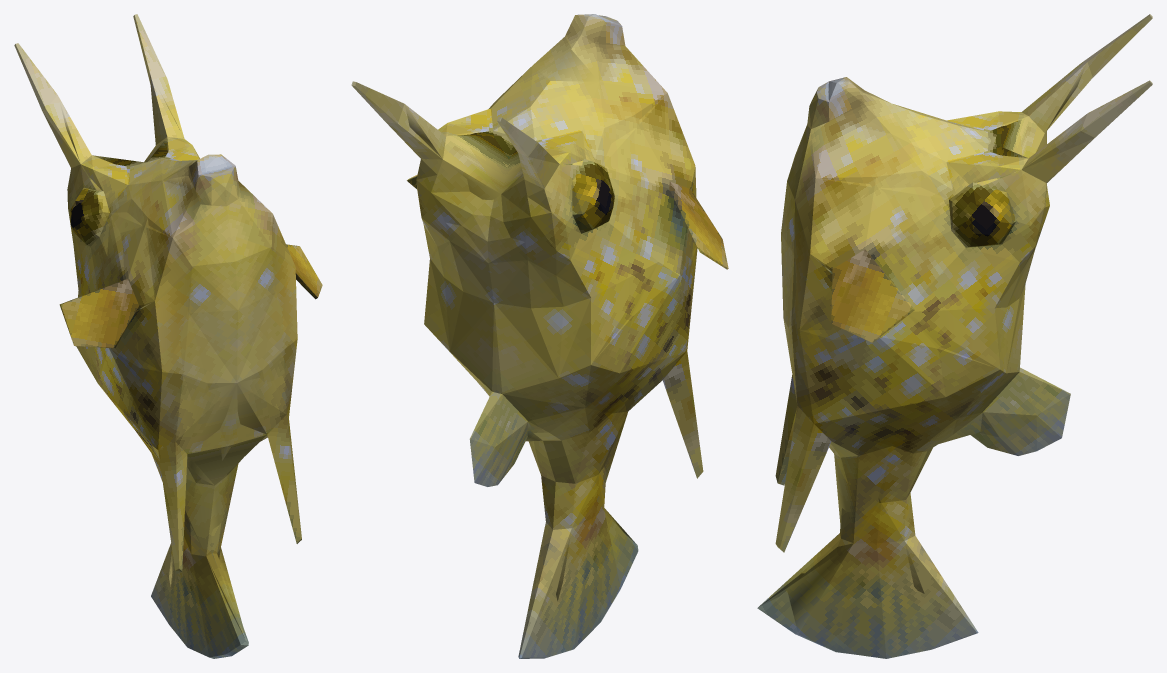
The model's file is item_fish_cowfish.glb.
3 renders of one model, left to right at view 1: azimuth 30°, elevation 25°; view 2: azimuth 150°, elevation 25°; view 3: azimuth 270°, elevation 25°, orthographic. The views are drawn at different scales.
Visible parts, largest first — view 1: longHornFish; view 2: longHornFish; view 3: longHornFish.
Part boxes in pixels (box(x1,y1,x2,y2)): longHornFish: box(14, 14, 322, 658); longHornFish: box(351, 14, 728, 658); longHornFish: box(757, 14, 1152, 658).
Bounding box in the file's own units: 0.1635 × 0.336 × 0.1973.
1 material, 1 textured.
